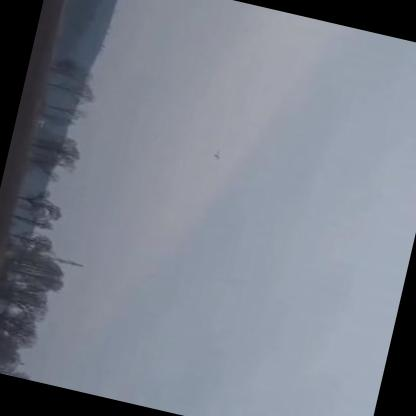plane: (210, 150, 225, 165)
